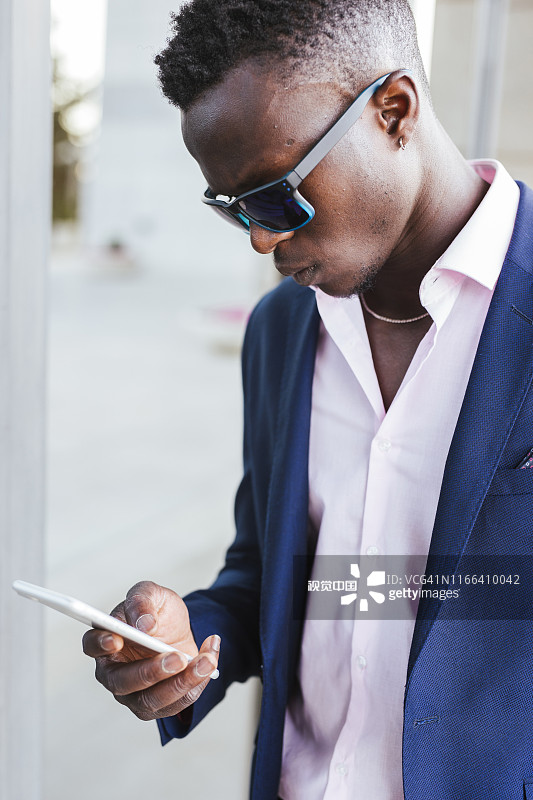reading: (4, 541, 256, 746)
